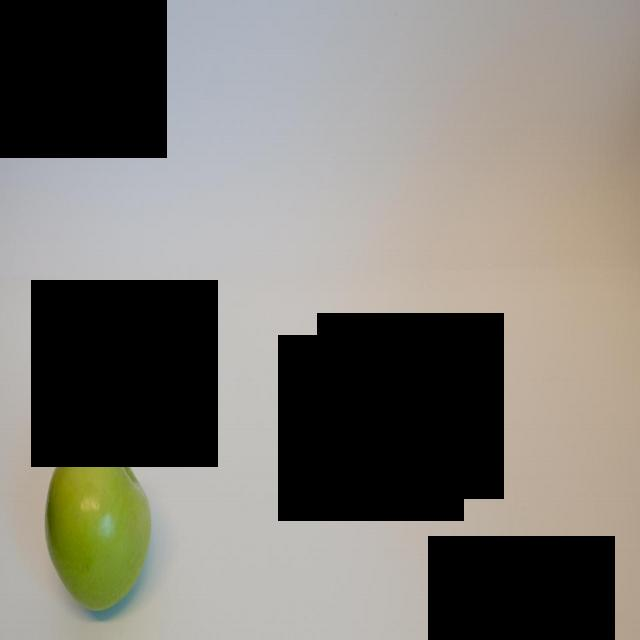apple: (42, 426, 151, 615)
